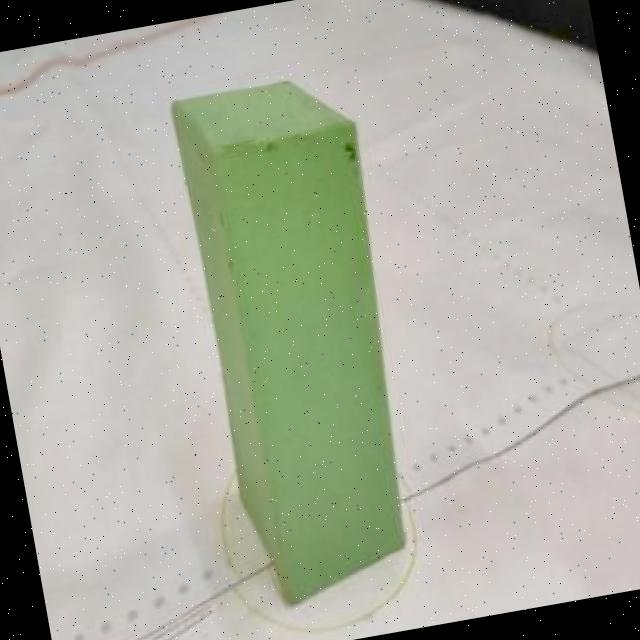greenbox: (167, 70, 432, 607)
